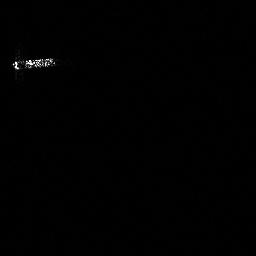ship: (13, 57, 55, 70)
